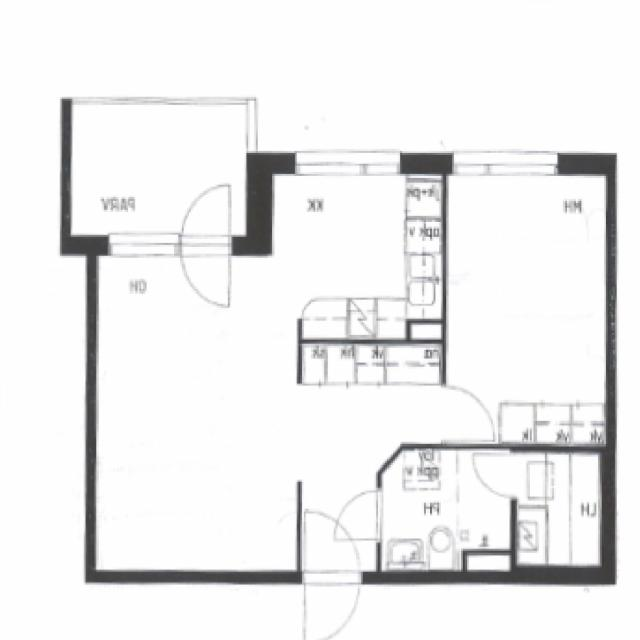door: (304, 506, 361, 582), (304, 569, 362, 640), (178, 235, 229, 312), (178, 178, 229, 254), (442, 386, 496, 442), (334, 490, 382, 540), (472, 454, 516, 497)
